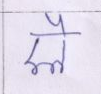ai_matra: (45, 13, 72, 32)
